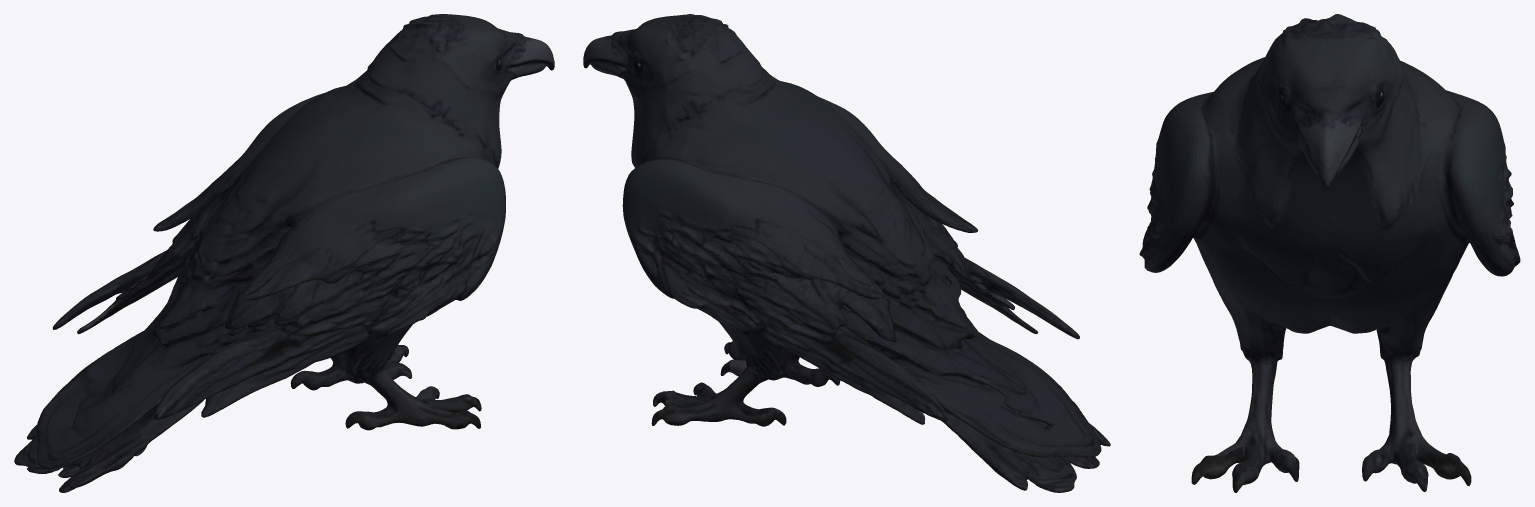
The model's file is crow_perch_paint.glb.
The picture shows the model from 3 angles, left to right: view 1: azimuth 30°, elevation 25°; view 2: azimuth 150°, elevation 25°; view 3: azimuth 270°, elevation 25°; orthographic projection. The views are drawn at different scales.
Parts seen in each view (by area): view 1: temp_mesh.ply; view 2: temp_mesh.ply; view 3: temp_mesh.ply.
Part boxes in pixels (left/top/right/bottom): temp_mesh.ply: left=14, top=14, right=554, bottom=492; temp_mesh.ply: left=583, top=14, right=1110, bottom=492; temp_mesh.ply: left=1139, top=14, right=1520, bottom=492.
Bounding box in the file's own units: 1.97 × 1.34 × 0.98.
1 material, 1 textured.
